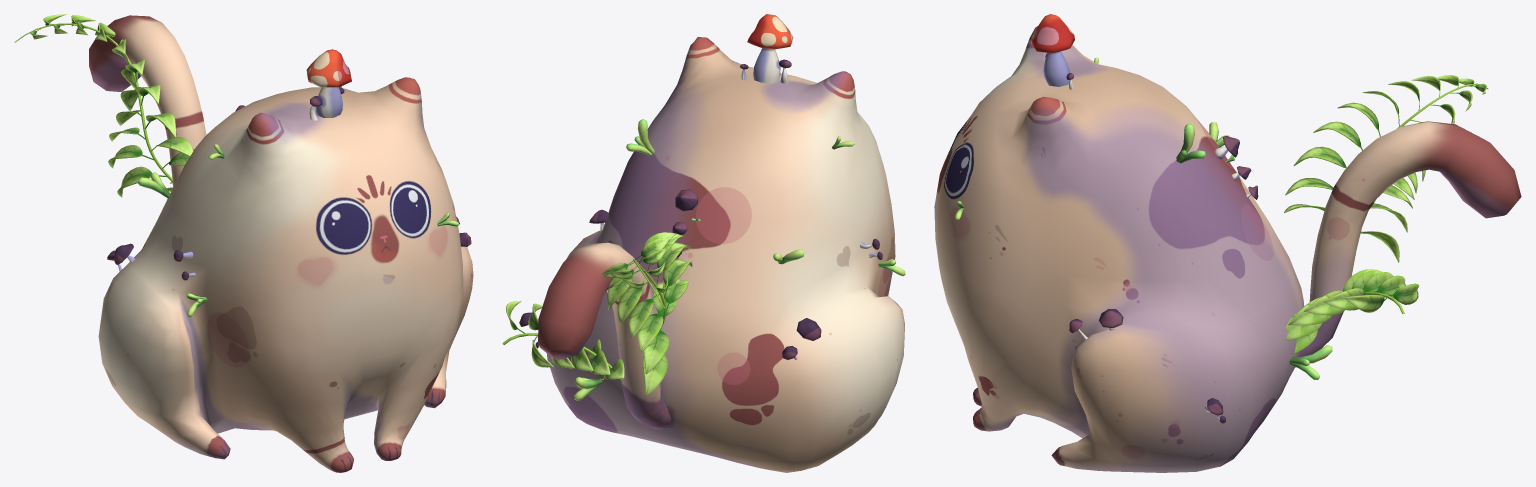
Rendered from cat.glb.
3 views of the same model, side by side, from view 1: azimuth 30°, elevation 25°; view 2: azimuth 150°, elevation 25°; view 3: azimuth 270°, elevation 25° (orthographic). The views are drawn at different scales.
Parts seen in each view (by area): view 1: Body, Leaves, Mashroom _Mashrooms_0, Grass; view 2: Body, Leaves, Mashroom _Mashrooms_0, Grass; view 3: Body, Leaves, Mashroom _Mashrooms_0, Grass.
Boxes of the visible parts, x1,y1,x2,y2 form: Body: (89,15,473,472); Leaves: (14,14,194,197); Mashroom _Mashrooms_0: (107,49,471,280); Grass: (138,86,458,317); Body: (538,37,904,472); Leaves: (502,232,692,396); Mashroom _Mashrooms_0: (519,14,882,359); Grass: (574,119,905,400); Body: (934,26,1521,472); Leaves: (1284,75,1488,354); Mashroom _Mashrooms_0: (1031,14,1258,423); Grass: (955,57,1332,380).
Size of the model in its own units: 6.22 by 6.72 by 8.88.
4 materials, 4 textured.
